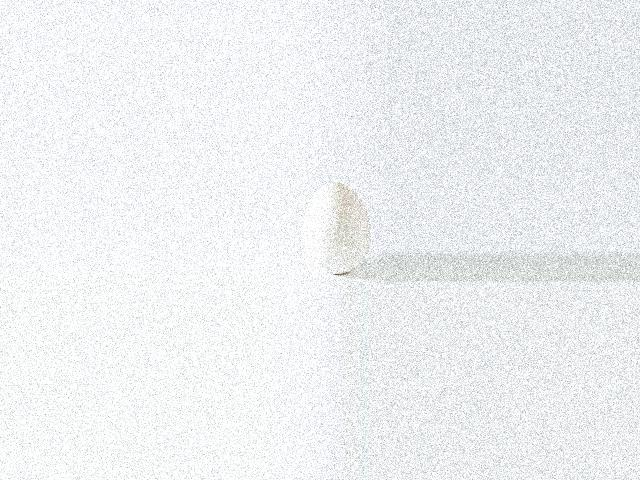egg: (301, 181, 369, 274)
